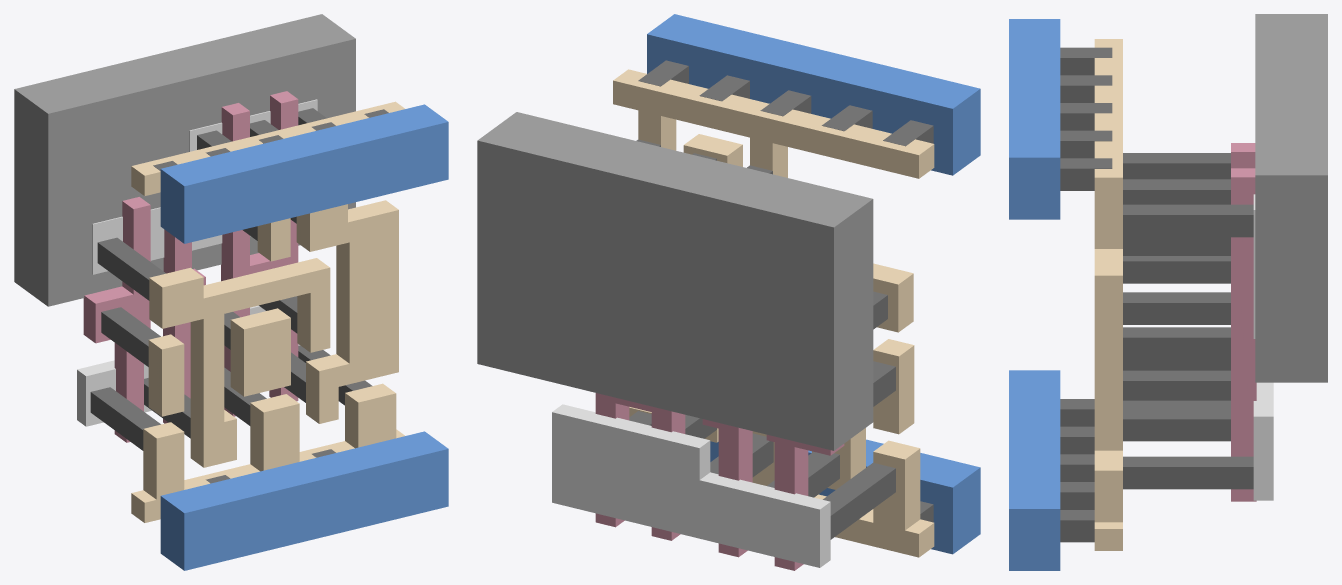
File: sky130_fd_sc_hd__or2_2.gds.gltf
The picture shows the model from 3 angles, left to right: view 1: azimuth 30°, elevation 25°; view 2: azimuth 150°, elevation 25°; view 3: azimuth 270°, elevation 25°; orthographic projection. The views are drawn at different scales.
Parts seen in each view (by area): view 1: sky130_fd_sc_hd__or2_2_li1, sky130_fd_sc_hd__or2_2_met1, sky130_fd_sc_hd__or2_2_nwell, sky130_fd_sc_hd__or2_2_poly, sky130_fd_sc_hd__or2_2_licon, sky130_fd_sc_hd__or2_2_diff, sky130_fd_sc_hd__or2_2_mcon; view 2: sky130_fd_sc_hd__or2_2_nwell, sky130_fd_sc_hd__or2_2_li1, sky130_fd_sc_hd__or2_2_met1, sky130_fd_sc_hd__or2_2_diff, sky130_fd_sc_hd__or2_2_licon, sky130_fd_sc_hd__or2_2_poly, sky130_fd_sc_hd__or2_2_mcon; view 3: sky130_fd_sc_hd__or2_2_licon, sky130_fd_sc_hd__or2_2_nwell, sky130_fd_sc_hd__or2_2_met1, sky130_fd_sc_hd__or2_2_li1, sky130_fd_sc_hd__or2_2_mcon, sky130_fd_sc_hd__or2_2_poly, sky130_fd_sc_hd__or2_2_diff.
Boxes of the visible parts, x1,y1,x2,y2 form: sky130_fd_sc_hd__or2_2_li1: [131, 101, 404, 522]; sky130_fd_sc_hd__or2_2_met1: [160, 104, 448, 570]; sky130_fd_sc_hd__or2_2_nwell: [14, 14, 355, 306]; sky130_fd_sc_hd__or2_2_poly: [83, 91, 298, 442]; sky130_fd_sc_hd__or2_2_licon: [90, 108, 372, 450]; sky130_fd_sc_hd__or2_2_diff: [77, 99, 317, 426]; sky130_fd_sc_hd__or2_2_mcon: [153, 109, 388, 483]; sky130_fd_sc_hd__or2_2_nwell: [477, 112, 873, 450]; sky130_fd_sc_hd__or2_2_li1: [613, 69, 934, 557]; sky130_fd_sc_hd__or2_2_met1: [647, 14, 980, 554]; sky130_fd_sc_hd__or2_2_diff: [552, 404, 830, 567]; sky130_fd_sc_hd__or2_2_licon: [629, 139, 895, 539]; sky130_fd_sc_hd__or2_2_poly: [595, 393, 844, 570]; sky130_fd_sc_hd__or2_2_mcon: [638, 60, 933, 522]; sky130_fd_sc_hd__or2_2_licon: [1123, 153, 1253, 489]; sky130_fd_sc_hd__or2_2_nwell: [1255, 14, 1327, 382]; sky130_fd_sc_hd__or2_2_met1: [1009, 19, 1060, 570]; sky130_fd_sc_hd__or2_2_li1: [1094, 39, 1122, 550]; sky130_fd_sc_hd__or2_2_mcon: [1060, 47, 1112, 542]; sky130_fd_sc_hd__or2_2_poly: [1231, 143, 1256, 501]; sky130_fd_sc_hd__or2_2_diff: [1253, 194, 1273, 500].
Size of the model in its own units: 2.68 by 3.2 by 2.24.
